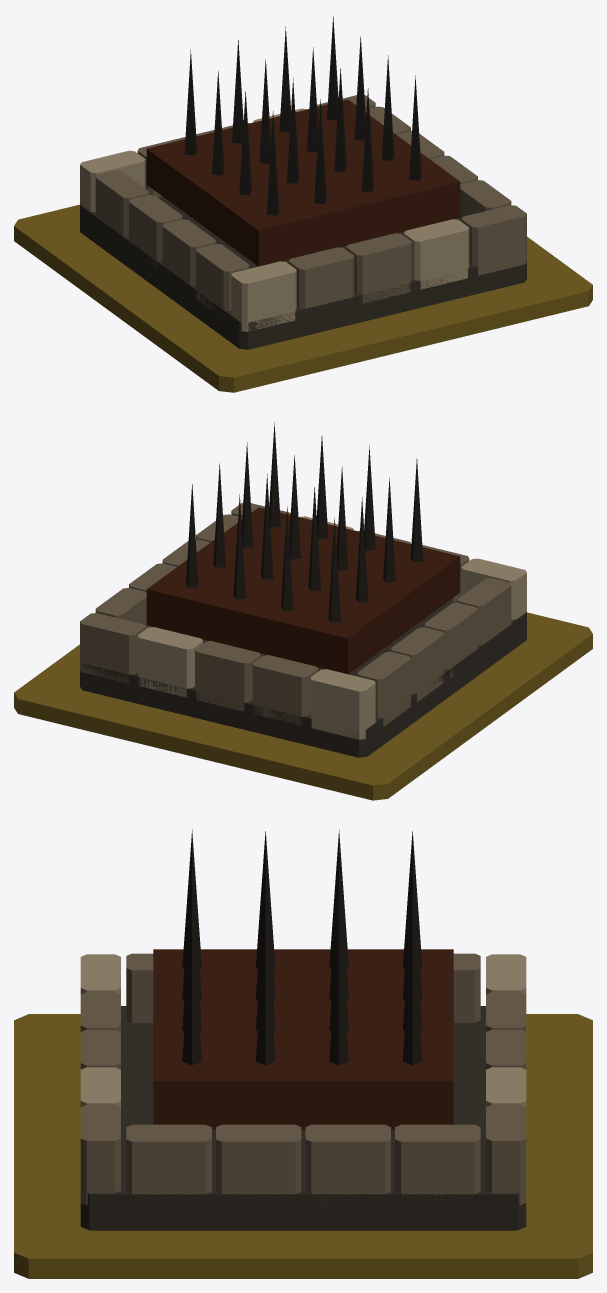
Rendered from trap_t3.glb.
3 views of the same model, one above another, from view 1: azimuth 30°, elevation 25°; view 2: azimuth 150°, elevation 25°; view 3: azimuth 270°, elevation 25° (orthographic). The views are drawn at different scales.
Visible parts, largest first — view 1: MMR | trap | T03 Architecture.001, MMR | trap | Tier 03 Ground.001; view 2: MMR | trap | T03 Architecture.001, MMR | trap | Tier 03 Ground.001; view 3: MMR | trap | T03 Architecture.001, MMR | trap | Tier 03 Ground.001.
Boxes of the visible parts, box(x1,y1,x2,y2) form: MMR | trap | T03 Architecture.001: box(80, 16, 526, 349); MMR | trap | Tier 03 Ground.001: box(14, 204, 592, 392); MMR | trap | T03 Architecture.001: box(80, 422, 526, 757); MMR | trap | Tier 03 Ground.001: box(14, 612, 592, 800); MMR | trap | T03 Architecture.001: box(80, 829, 526, 1230); MMR | trap | Tier 03 Ground.001: box(14, 1014, 592, 1278).
Size of the model in its own units: 1.3 by 0.695 by 1.3.
1 material, 1 textured.
